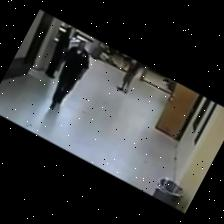person: (50, 42, 89, 108), (45, 27, 71, 78), (117, 60, 142, 93)
